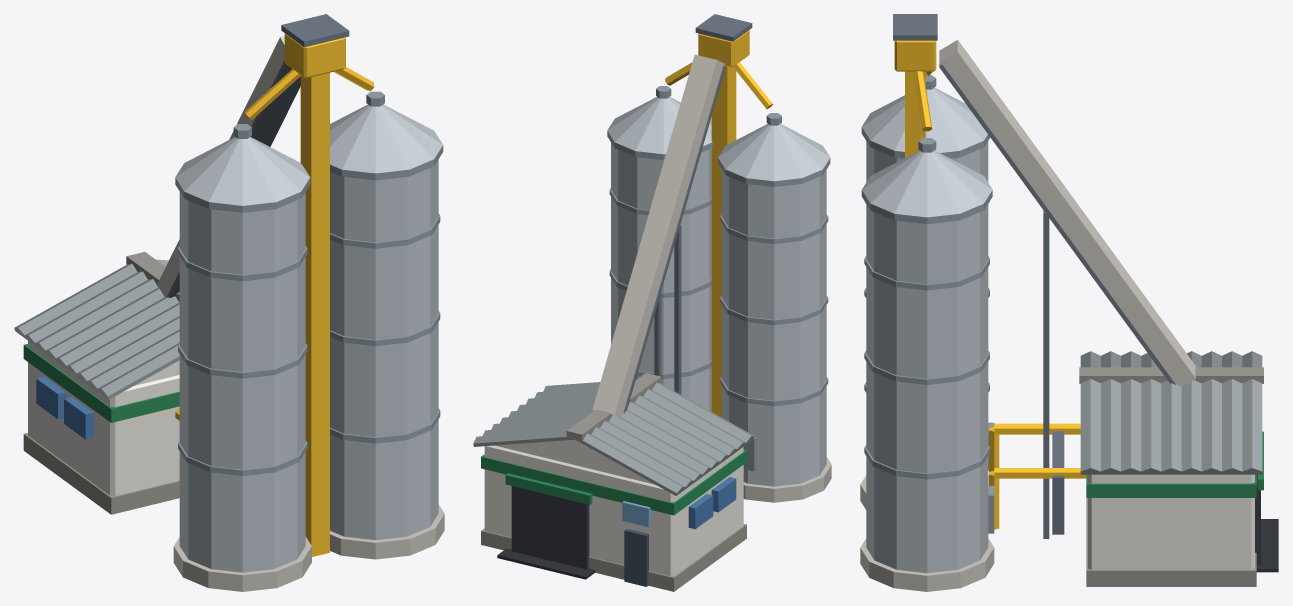
The model's file is silo_industria.glb.
3 renders of one model, left to right at view 1: azimuth 30°, elevation 25°; view 2: azimuth 150°, elevation 25°; view 3: azimuth 270°, elevation 25°, orthographic. The views are drawn at different scales.
Parts seen in each view (by area): view 1: corpo; view 2: corpo; view 3: corpo.
Part boxes in pixels (x1,y1,x2,y2): corpo: (14, 14, 444, 591); corpo: (473, 14, 831, 591); corpo: (860, 14, 1278, 591).
Bounding box in the file's own units: 0.95 × 1.88 × 1.4.
